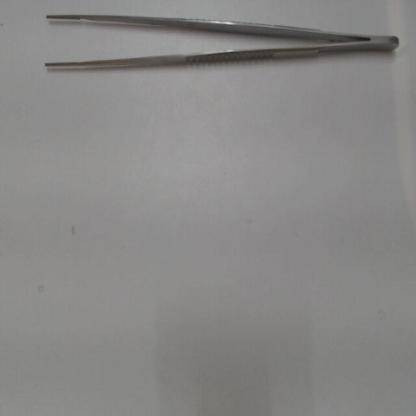DeBakey Dissector: (28, 8, 403, 86)
